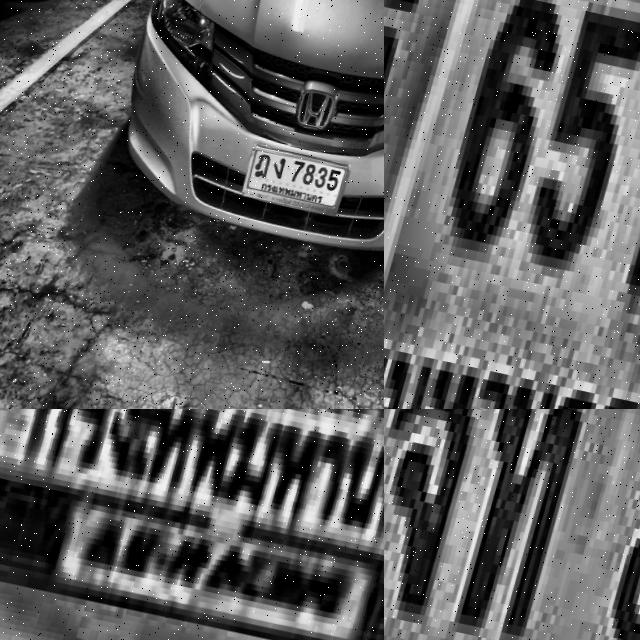license-plate: (384, 0, 640, 409), (0, 409, 384, 640), (384, 409, 640, 640), (242, 140, 359, 220)
